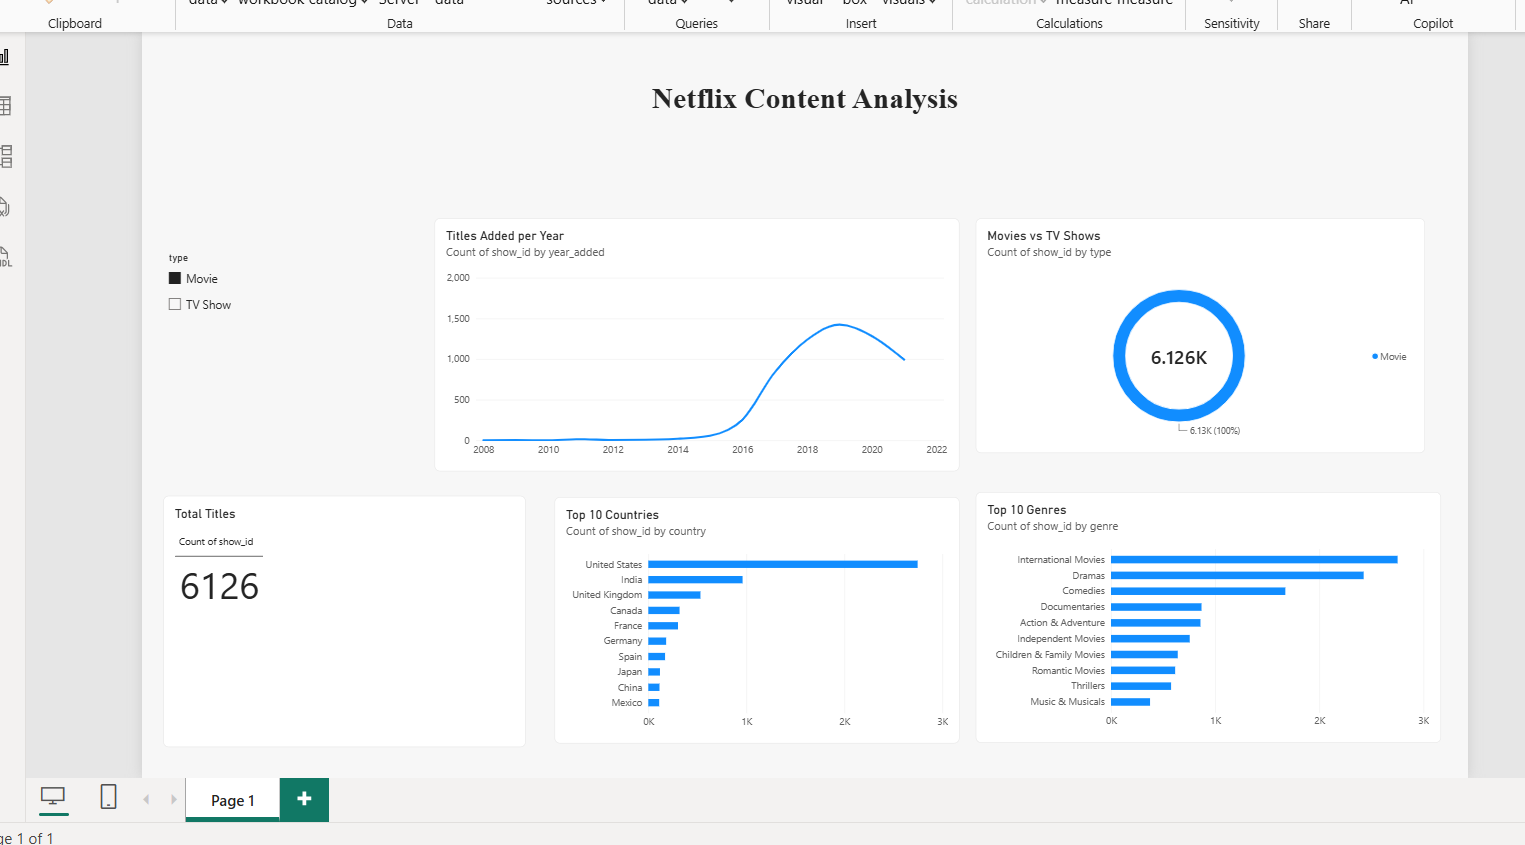

The page's visual inventory and layout, read from the dashboard file:
{"tool":"powerbi","page":{"name":"Page 1","canvas":[1920,1080],"ordinal":0},"visuals":[{"type":"tableEx","title":"Total  Titles","fields":{"Values":["netflix_cleaned (1).show_id"]},"box":[31.5,670.6,524.4,363.9],"z":0},{"type":"slicer","fields":{"Values":["netflix_cleaned (1).type"]},"box":[31.5,318.1,487.2,349.6],"z":1},{"type":"donutChart","title":"Movies vs TV Shows","fields":{"Category":["netflix_cleaned (1).type"],"Y":["Count(netflix_cleaned (1).show_id)"]},"box":[1206.7,270,650,340],"z":2},{"type":"lineChart","title":"Titles Added per Year","fields":{"Category":["netflix_cleaned (1).year_added"],"Y":["Count(netflix_cleaned (1).show_id)"]},"box":[423.3,270,760,366.7],"z":3},{"type":"barChart","title":"Top 10 Countries","fields":{"Category":["netflix_countries (1).country"],"Y":["Count(netflix_countries (1).show_id)"]},"box":[596.7,673.3,586.7,356.7],"z":4},{"type":"barChart","title":"Top 10 Genres","fields":{"Category":["netflix_genres (1).genre"],"Y":["Count(netflix_genres (1).show_id)"]},"box":[1206.7,666.7,673.3,363.3],"z":5},{"type":"textbox","box":[1124,70,570,292],"z":6},{"type":"textbox","box":[0,70,1920,146.7],"z":7}]}

Visuals, with their boxes on the page's 1920x1080 design canvas (x1, y1, x2, y2). These are canvas units, not pixel positions in the 1525x845 screenshot, which may show the page scaled, cropped or inside an application window:
"Total  Titles" tableEx: [left=32, top=671, right=556, bottom=1034]
slicer - netflix_cleaned (1).type: [left=32, top=318, right=519, bottom=668]
"Movies vs TV Shows" donutChart: [left=1207, top=270, right=1857, bottom=610]
"Titles Added per Year" lineChart: [left=423, top=270, right=1183, bottom=637]
"Top 10 Countries" barChart: [left=597, top=673, right=1183, bottom=1030]
"Top 10 Genres" barChart: [left=1207, top=667, right=1880, bottom=1030]
textbox: [left=1124, top=70, right=1694, bottom=362]
textbox: [left=0, top=70, right=1920, bottom=217]
